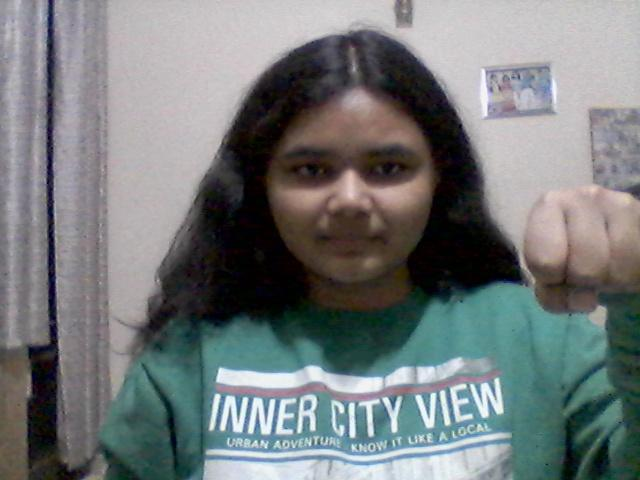yes: (516, 183, 640, 310)
